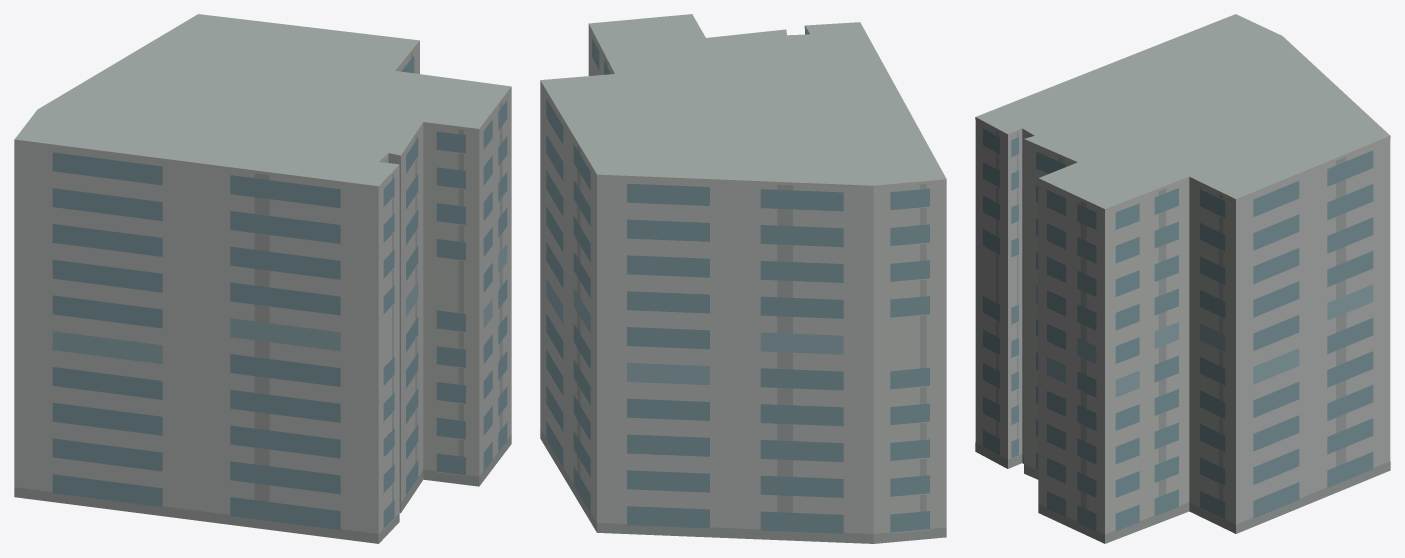
File: survey-upis-32919471.glb
The picture shows the model from 3 angles, left to right: view 1: azimuth 30°, elevation 25°; view 2: azimuth 150°, elevation 25°; view 3: azimuth 270°, elevation 25°; orthographic projection. The views are drawn at different scales.
Visible parts, largest first — view 1: survey-upis-32919471.tmp; view 2: survey-upis-32919471.tmp; view 3: survey-upis-32919471.tmp.
Part boxes in pixels (bbox=[...]): survey-upis-32919471.tmp: bbox=[14, 14, 511, 543]; survey-upis-32919471.tmp: bbox=[540, 14, 946, 543]; survey-upis-32919471.tmp: bbox=[975, 14, 1390, 543].
Bounding box in the file's own units: 38.14 × 30.5 × 34.27.
